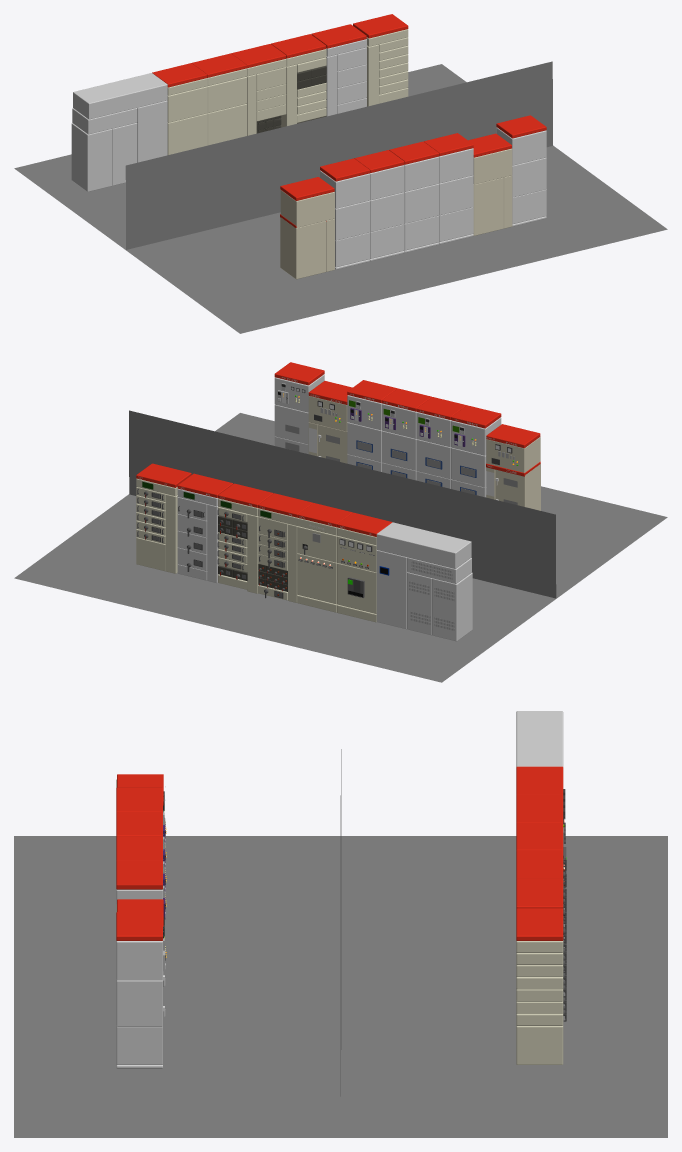
Rendered from B-room.gltf.
3 renders of one model, top to bottom at view 1: azimuth 30°, elevation 25°; view 2: azimuth 150°, elevation 25°; view 3: azimuth 270°, elevation 25°, orthographic. The views are drawn at different scales.
Visible parts, largest first — view 1: a座配电室地板, a座配电室地板.001, 立方体.355, 立方体.358, 立方体.154, 立方体.352, 立方体.019, 立方体.151, 立方体.330, 立方体.324, 立方体.357, 立方体.066 (+40 smaller); view 2: a座配电室地板, a座配电室地板.001, 立方体.355, 立方体.358, 立方体.352, 立方体.324, 立方体.154, 立方体.357, 立方体.330, 立方体.151, 立方体.070, 立方体.125 (+35 smaller); view 3: a座配电室地板, 立方体.355, 立方体.070, 立方体.001, 立方体.174, 立方体.002, 立方体.172, 立方体.206, 立方体.036, 立方体.224, 立方体.271, 立方体.321 (+11 smaller).
Boxes of the visible parts, x1=… form: a座配电室地板: x1=14, y1=64, x2=667, y2=333; a座配电室地板.001: x1=125, y1=61, x2=552, y2=249; 立方体.355: x1=73, y1=73, x2=167, y2=119; 立方体.358: x1=71, y1=123, x2=112, y2=191; 立方体.154: x1=280, y1=217, x2=325, y2=279; 立方体.352: x1=137, y1=100, x2=167, y2=162; 立方体.019: x1=473, y1=177, x2=503, y2=235; 立方体.151: x1=280, y1=190, x2=334, y2=227; 立方体.330: x1=167, y1=113, x2=207, y2=154; 立方体.324: x1=207, y1=104, x2=246, y2=145; 立方体.357: x1=112, y1=123, x2=137, y2=185; 立方体.066: x1=404, y1=184, x2=439, y2=223; a座配电室地板: x1=14, y1=413, x2=667, y2=682; a座配电室地板.001: x1=129, y1=410, x2=556, y2=598; 立方体.355: x1=376, y1=522, x2=471, y2=568; 立方体.358: x1=432, y1=572, x2=472, y2=641; 立方体.352: x1=376, y1=550, x2=407, y2=629; 立方体.324: x1=297, y1=553, x2=336, y2=604; 立方体.154: x1=495, y1=463, x2=540, y2=510; 立方体.357: x1=407, y1=572, x2=432, y2=635; 立方体.330: x1=337, y1=563, x2=376, y2=613; 立方体.151: x1=486, y1=437, x2=540, y2=472; 立方体.070: x1=274, y1=404, x2=308, y2=444; 立方体.125: x1=451, y1=447, x2=486, y2=487; a座配电室地板: x1=14, y1=836, x2=667, y2=1137; 立方体.355: x1=516, y1=711, x2=563, y2=766; 立方体.070: x1=116, y1=980, x2=162, y2=1026; 立方体.001: x1=116, y1=940, x2=162, y2=980; 立方体.174: x1=516, y1=1025, x2=563, y2=1064; 立方体.002: x1=116, y1=1026, x2=162, y2=1064; 立方体.172: x1=516, y1=908, x2=563, y2=940; 立方体.206: x1=516, y1=879, x2=563, y2=908; 立方体.036: x1=116, y1=860, x2=162, y2=889; 立方体.224: x1=516, y1=850, x2=563, y2=879; 立方体.271: x1=516, y1=822, x2=563, y2=850; 立方体.321: x1=516, y1=794, x2=563, y2=822.
Bounding box in the file's own units: 367 × 79.98 × 335.
